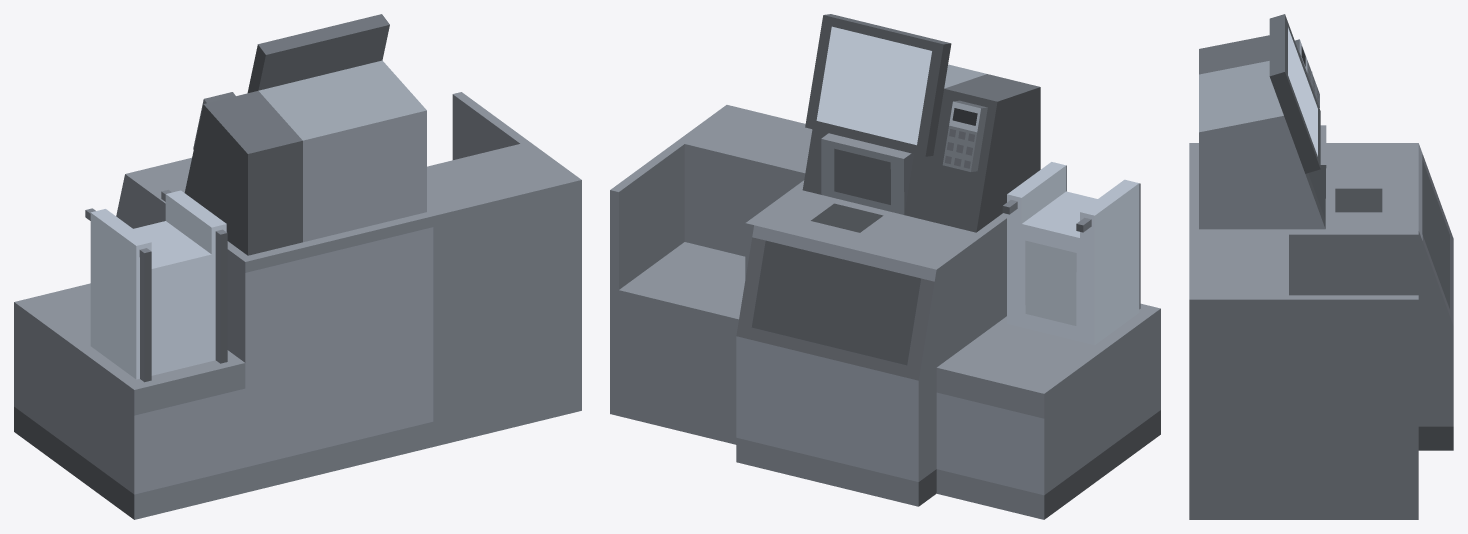
The model's file is SelfCheckout2.glb.
3 views of the same model, side by side, from view 1: azimuth 30°, elevation 25°; view 2: azimuth 150°, elevation 25°; view 3: azimuth 270°, elevation 25° (orthographic). The views are drawn at different scales.
Visible parts, largest first — view 1: SI_Prop_SelfCheckout_02; view 2: SI_Prop_SelfCheckout_02; view 3: SI_Prop_SelfCheckout_02.
Part boxes in pixels (x1,y1,x2,y2): SI_Prop_SelfCheckout_02: (14, 14, 581, 519); SI_Prop_SelfCheckout_02: (610, 14, 1160, 519); SI_Prop_SelfCheckout_02: (1189, 14, 1453, 519).
Size of the model in its own units: 0.0299 by 0.0254 by 0.0161.
1 material, 1 textured.
